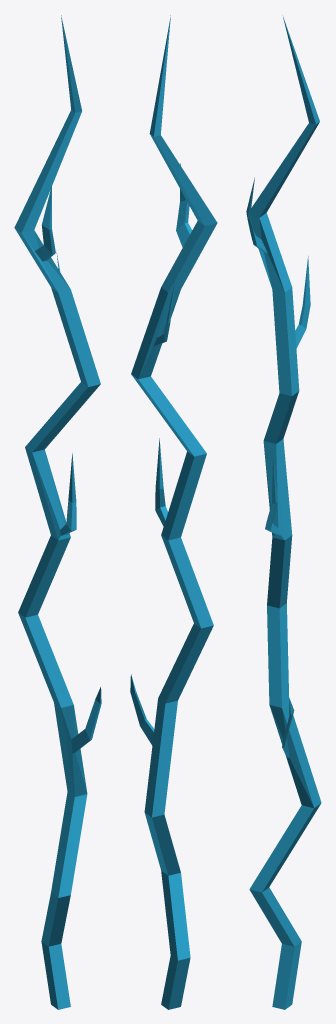
File: lightning.obj
3 renders of one model, left to right at view 1: azimuth 30°, elevation 25°; view 2: azimuth 210°, elevation 25°; view 3: azimuth 330°, elevation 25°, orthographic.
Visible parts, largest first — view 1: Lightning_Cube.001; view 2: Lightning_Cube.001; view 3: Lightning_Cube.001.
Boxes of the visible parts, x1,y1,x2,y2 form: Lightning_Cube.001: (14,15,101,1009); Lightning_Cube.001: (130,15,217,1009); Lightning_Cube.001: (246,15,321,1009).
Bounding box in the file's own units: 0.422 × 6 × 0.3725.
